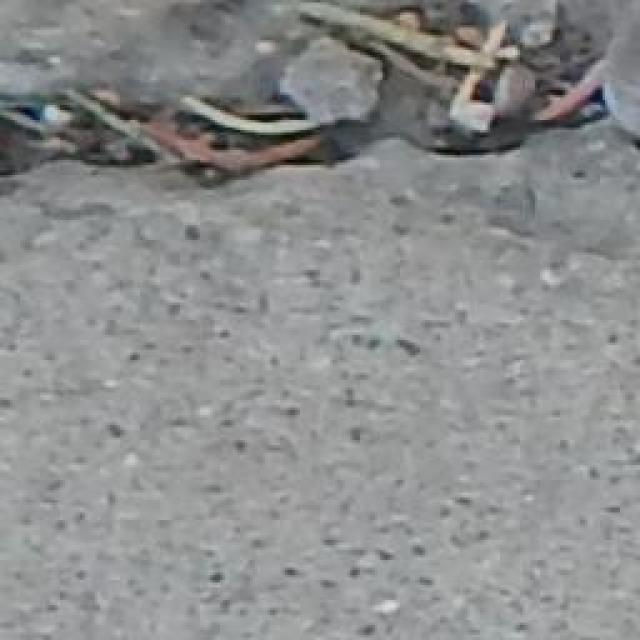concrete-crack: (0, 1, 640, 202)
